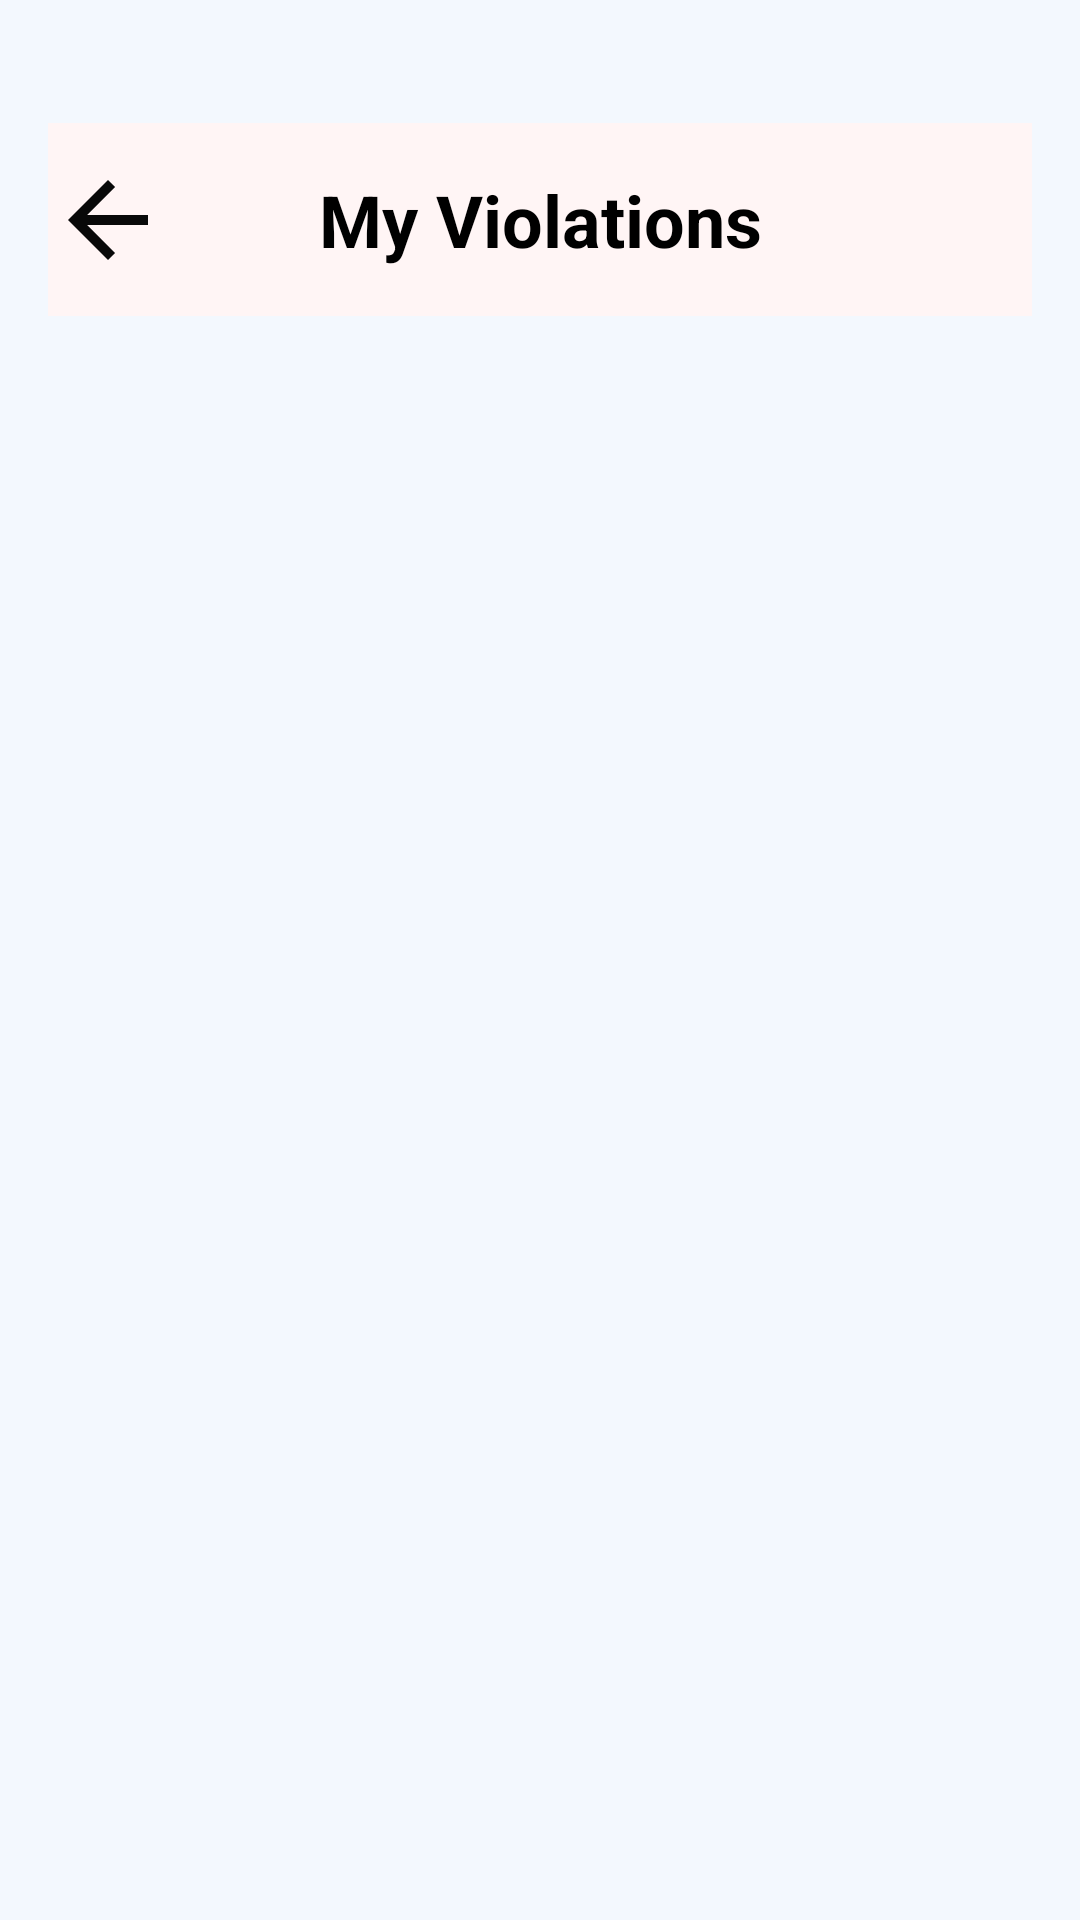

Where to tap for icons on this 1080w x 1920h app screen, as (x,y):
Back: (108,220)
